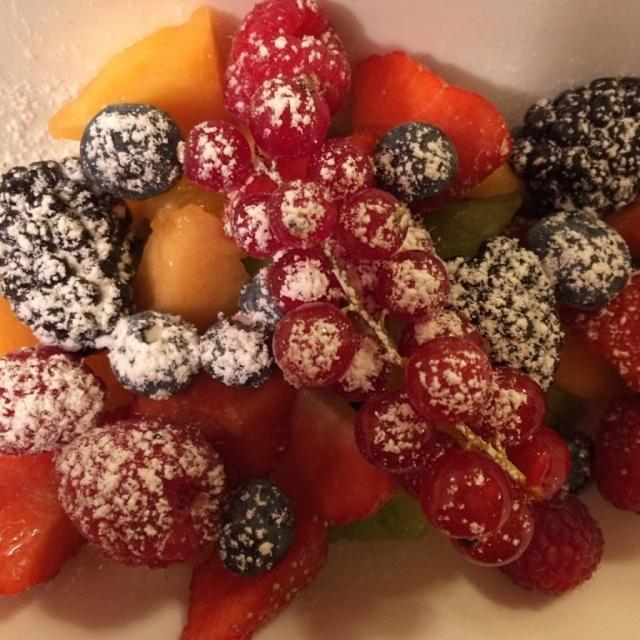Strawberry: (344, 54, 515, 208), (112, 366, 295, 481), (177, 511, 334, 639), (267, 397, 397, 527), (0, 448, 94, 599)
